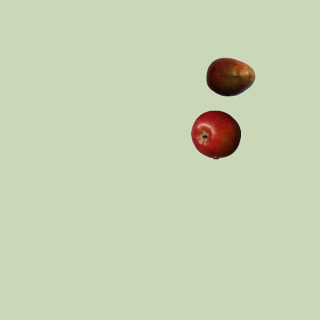Apple Braeburn: (190, 109, 240, 159)
Mango Red: (205, 51, 255, 101)
